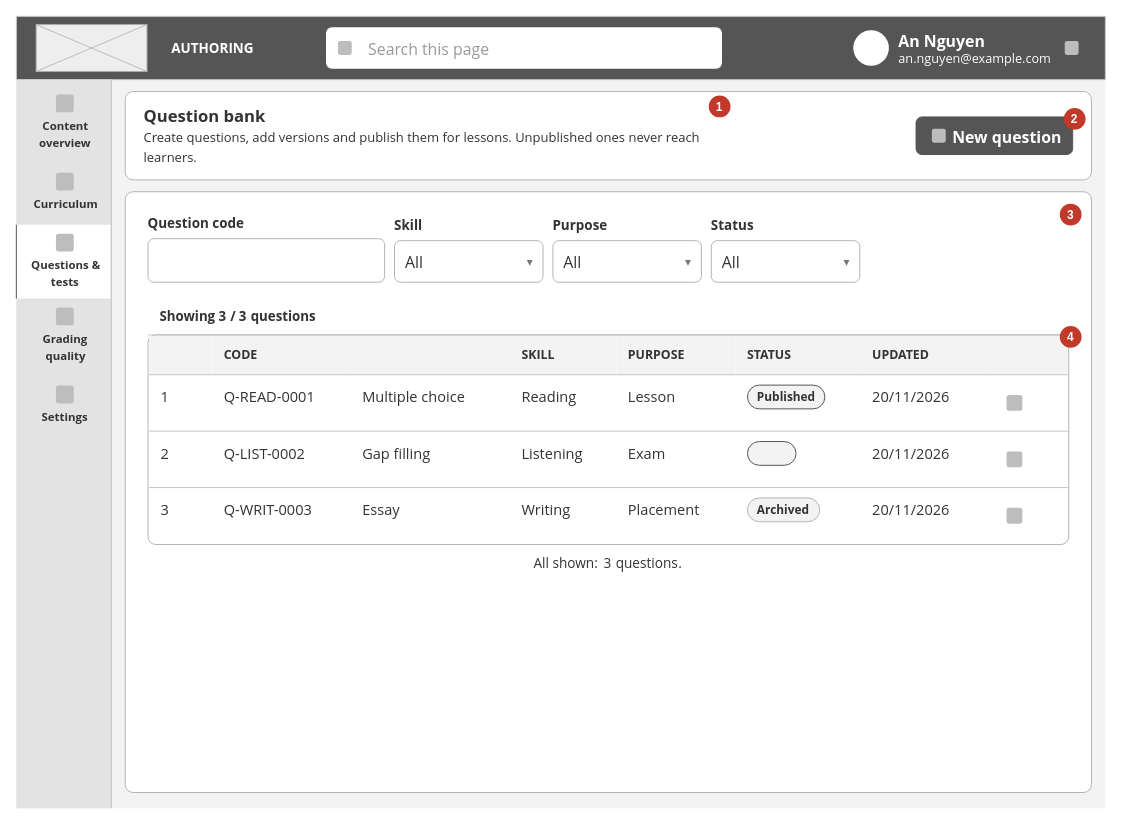
Image size: 1122x825. Some labels were removed from this diagram. Here are the shapes that lost their labels. From the top down, the centre of each, then its label:
At point (870, 47): "AN".
At point (180, 354): "NO.".
At point (429, 354): "TYPE".
At point (1025, 354): "ACTIONS".
At point (771, 453): "Draft".
